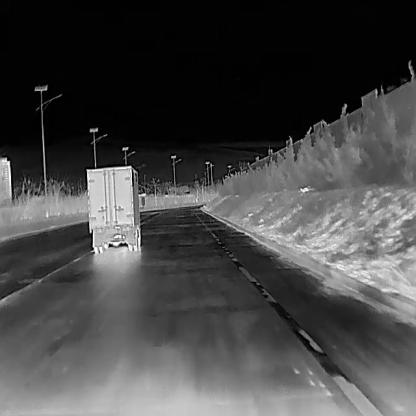truck: (85, 164, 144, 253)
